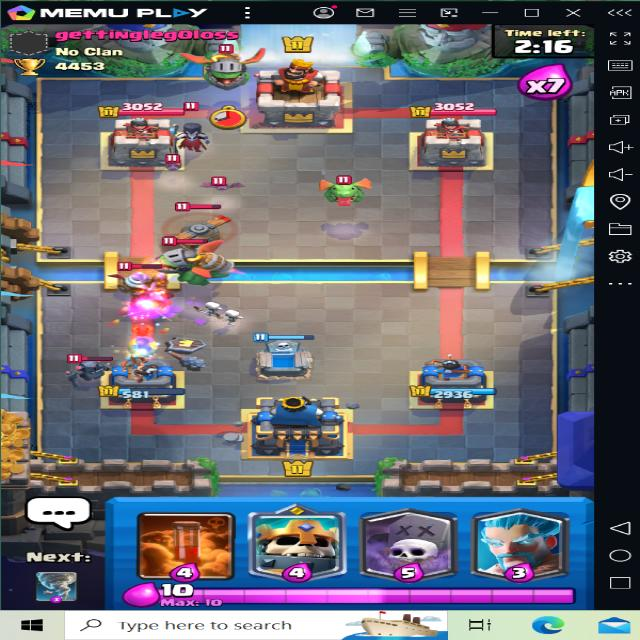Babydragon: (310, 169, 384, 211)
Bat: (200, 171, 240, 194), (161, 150, 185, 173)
Flyingmachine: (162, 206, 232, 264)
Infernodragon: (153, 236, 244, 287), (195, 42, 264, 90)
Minipekka: (66, 355, 120, 387)
Nightwitch: (175, 108, 221, 162)
Zappies: (118, 264, 166, 292)
